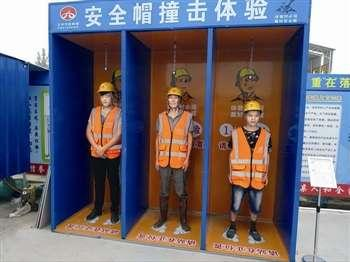helmet: (245, 101, 264, 114), (98, 82, 116, 95), (167, 88, 184, 99)
